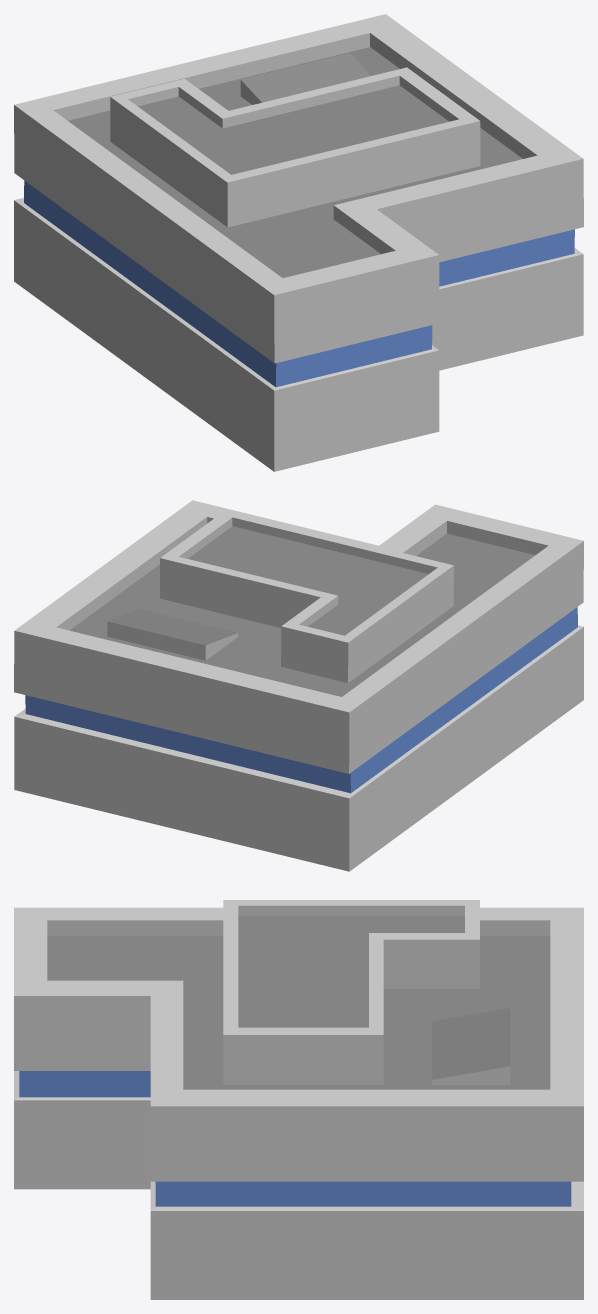
Rendered from bigstation.fbx.
3 renders of one model, top to bottom at view 1: azimuth 30°, elevation 25°; view 2: azimuth 150°, elevation 25°; view 3: azimuth 270°, elevation 25°, orthographic. The views are drawn at different scales.
Visible parts, largest first — view 1: Cube, Cube.001, Cube.002; view 2: Cube, Cube.001, Cube.002; view 3: Cube, Cube.001, Cube.002.
Part boxes in pixels (x1,y1,x2,y2): Cube: (14,14,583,471); Cube.001: (110,67,480,227); Cube.002: (240,53,370,104); Cube: (14,500,583,871); Cube.001: (160,510,453,682); Cube.002: (107,609,237,660); Cube: (14,907,583,1299); Cube.001: (223,900,479,1084); Cube.002: (432,1008,510,1084).
Bounding box in the file's own units: 429 × 228 × 519.
